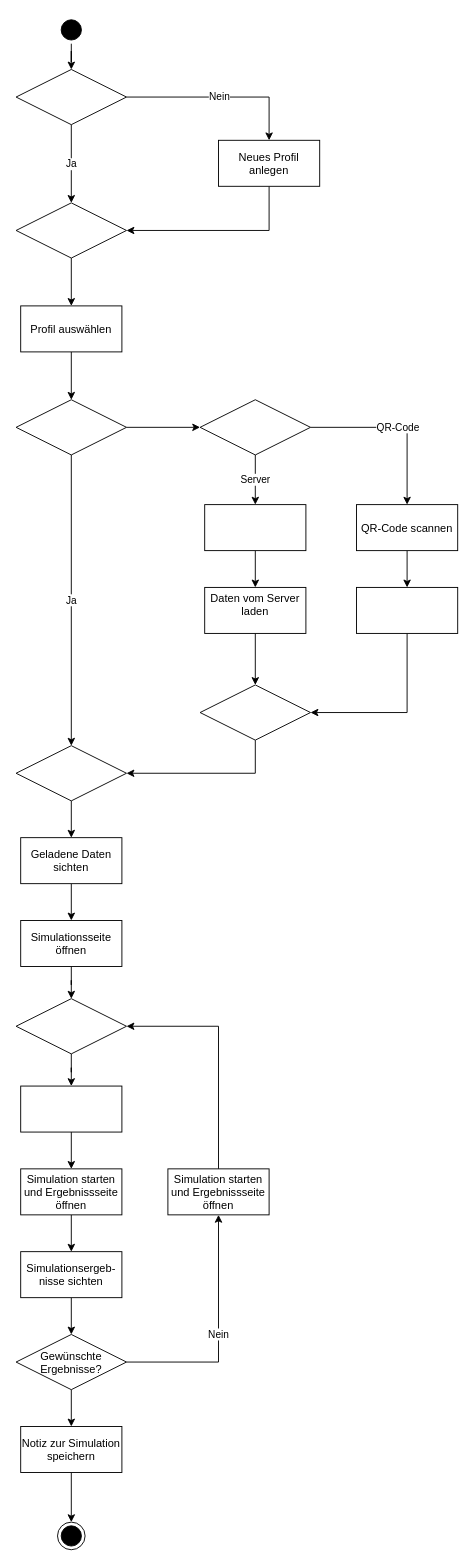
The diagram is 474 pixels wide and 1566 high, and some of its shapes have lost their labels. The shapes that lost their labels are listed below. From the top down, each one's centre as x and y in pixels, then its label:
the point at 70,97: Profil schon vorhanden?
the point at 70,427: Daten geladen?
the point at 254,427: Server oder QR-Code?
the point at 255,527: Messungs-ID eingeben
the point at 407,609: Daten aus QR- Code auslesen
the point at 71,1108: Werte für Simulation anpassen
